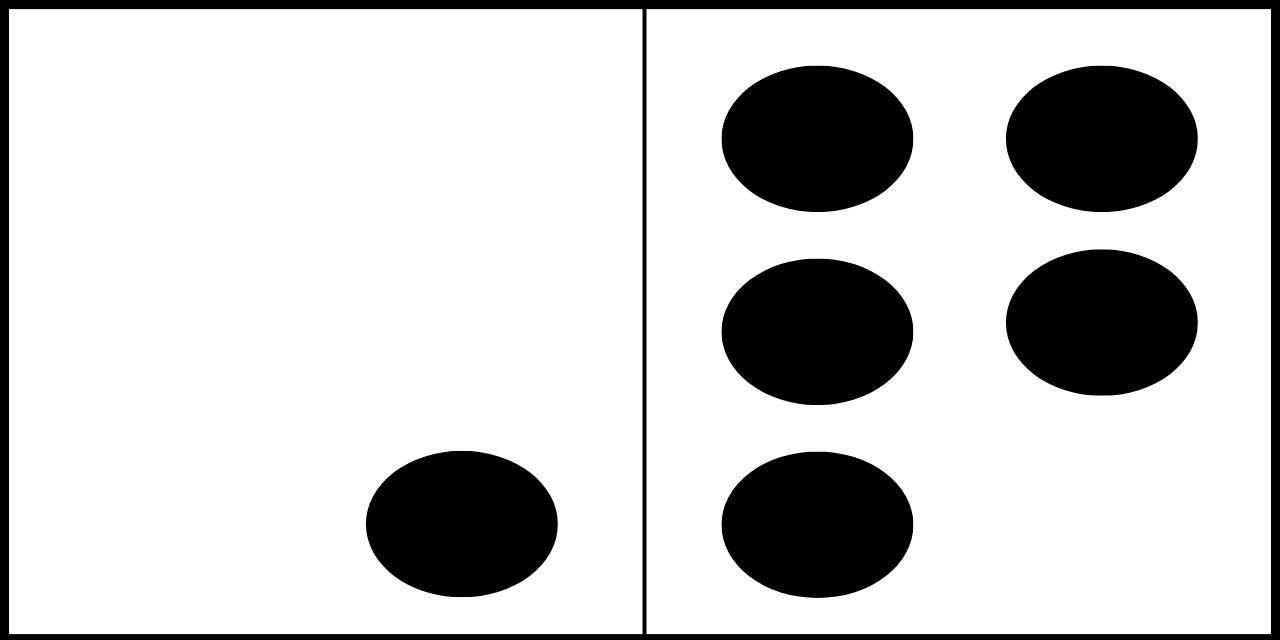capital_sign: (152, 70, 558, 598)
letter_Q: (720, 67, 1197, 601)
